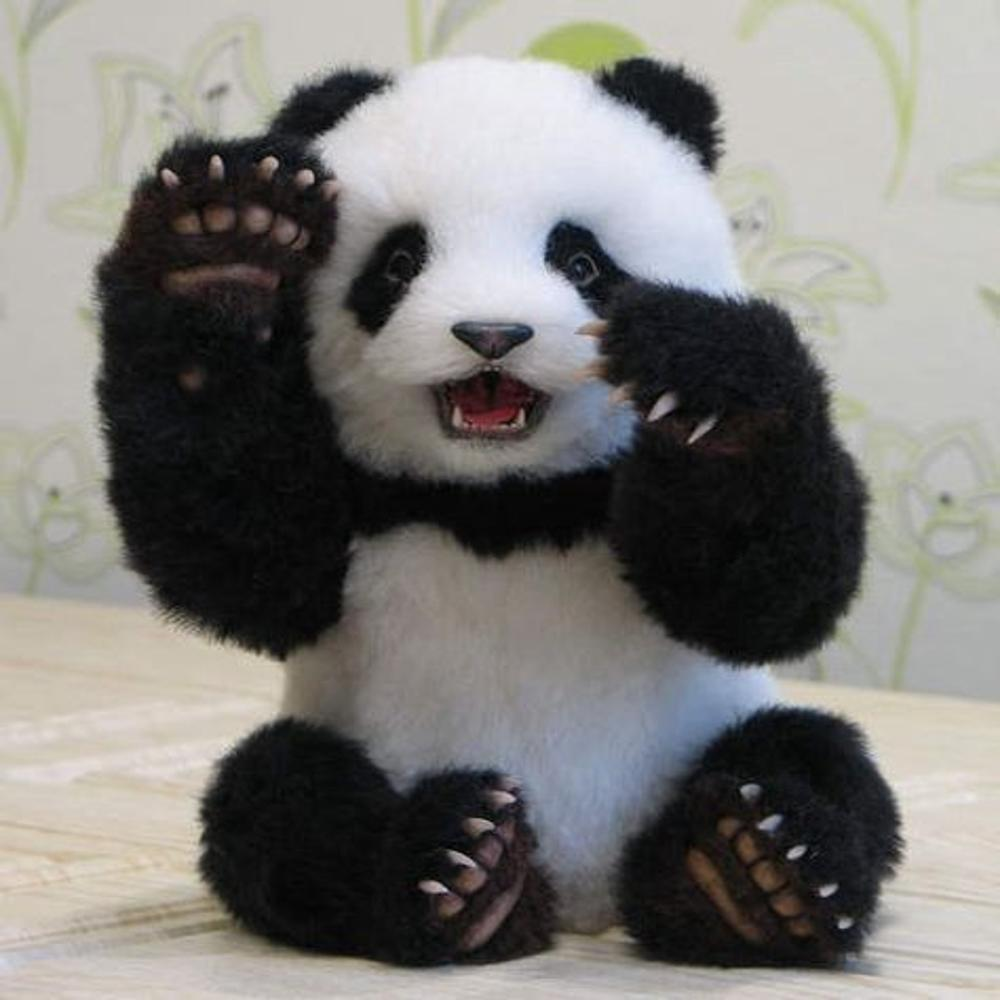panda: (82, 54, 899, 960)
